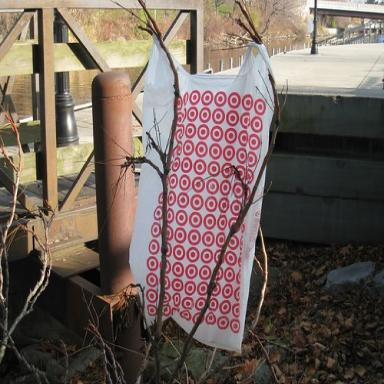plasticbag: (128, 29, 276, 352)
